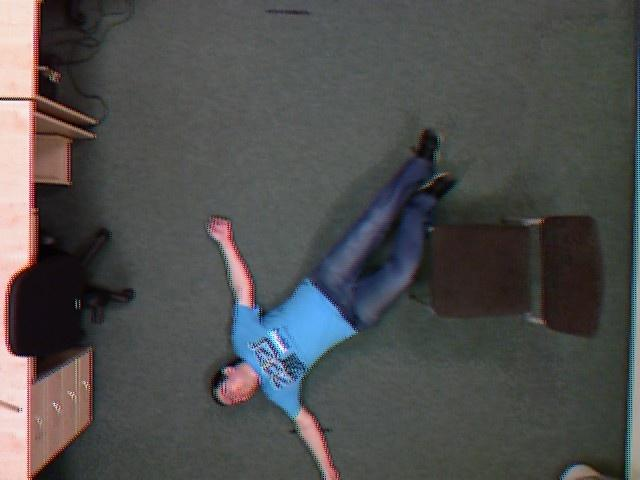fall: (170, 123, 472, 480)
